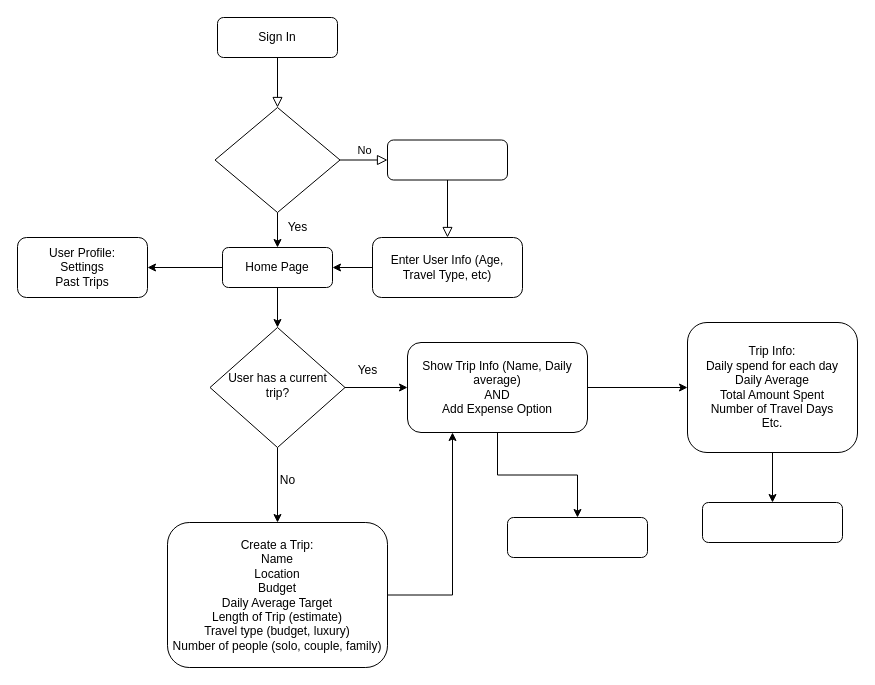
Some shapes in this 875 by 685 pixel diagram are drawn without their labels. The box of each missing label's shape, as (x1, y1, x2, y2) in pixels:
Add Expense Form: (506, 516, 648, 558)
Show All Expenses: (702, 502, 842, 542)
Sign in to Google: (386, 139, 508, 180)
User has an account?: (214, 106, 340, 212)
